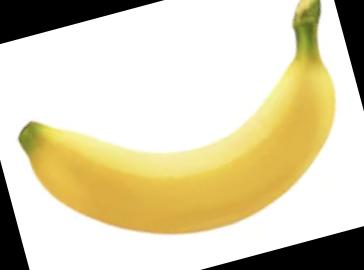Banana Ripe: (18, 19, 335, 232)
